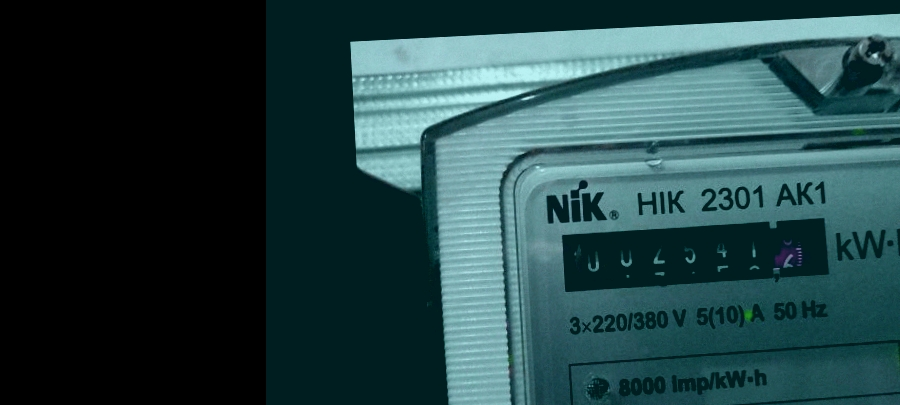0: (615, 236, 636, 270), (585, 243, 603, 273)
1: (743, 226, 761, 260)
2: (646, 233, 669, 268)
4: (712, 229, 731, 261)
5: (680, 234, 698, 266)
6: (779, 249, 796, 270)
screen: (546, 202, 851, 307)
